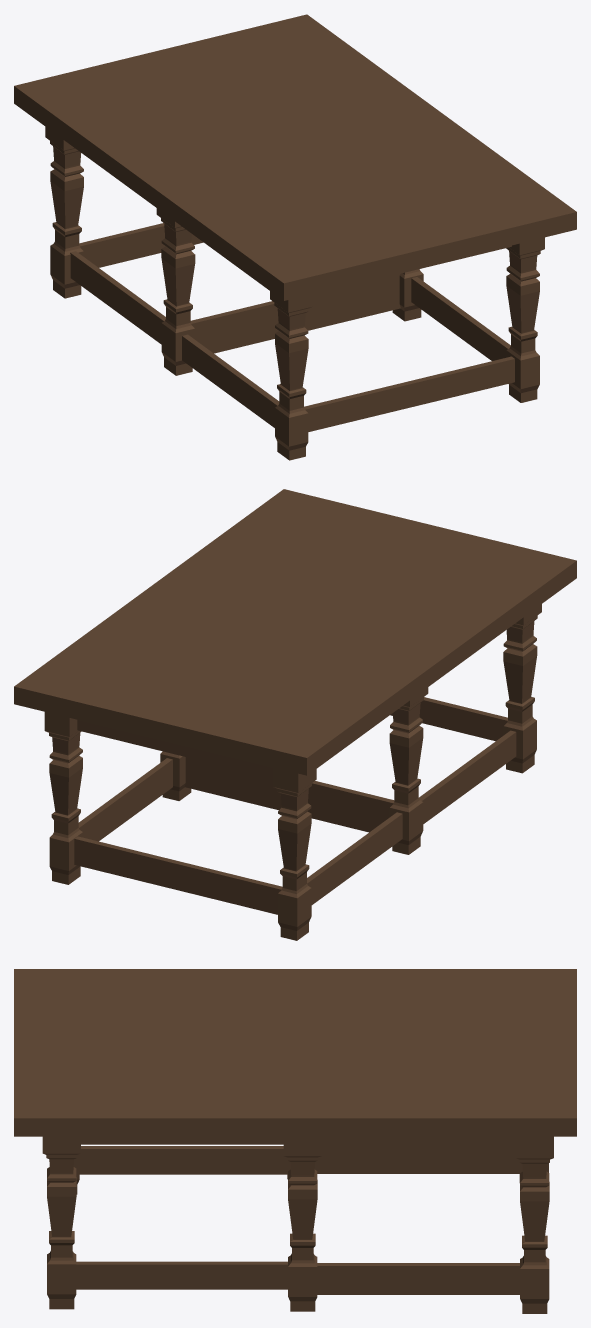
The model's file is Table.glb.
3 views of the same model, one above another, from view 1: azimuth 30°, elevation 25°; view 2: azimuth 150°, elevation 25°; view 3: azimuth 270°, elevation 25° (orthographic). The views are drawn at different scales.
Parts seen in each view (by area): view 1: Table; view 2: Table; view 3: Table.
Boxes of the visible parts, x1=… form: Table: x1=14, y1=14, x2=576, y2=460; Table: x1=14, y1=489, x2=576, y2=940; Table: x1=14, y1=969, x2=576, y2=1313.
Bounding box in the file's own units: 1.97 × 1.28 × 3.15.
